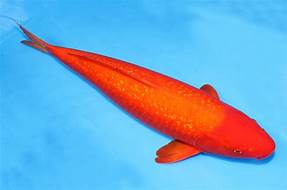red: (19, 24, 277, 164)
